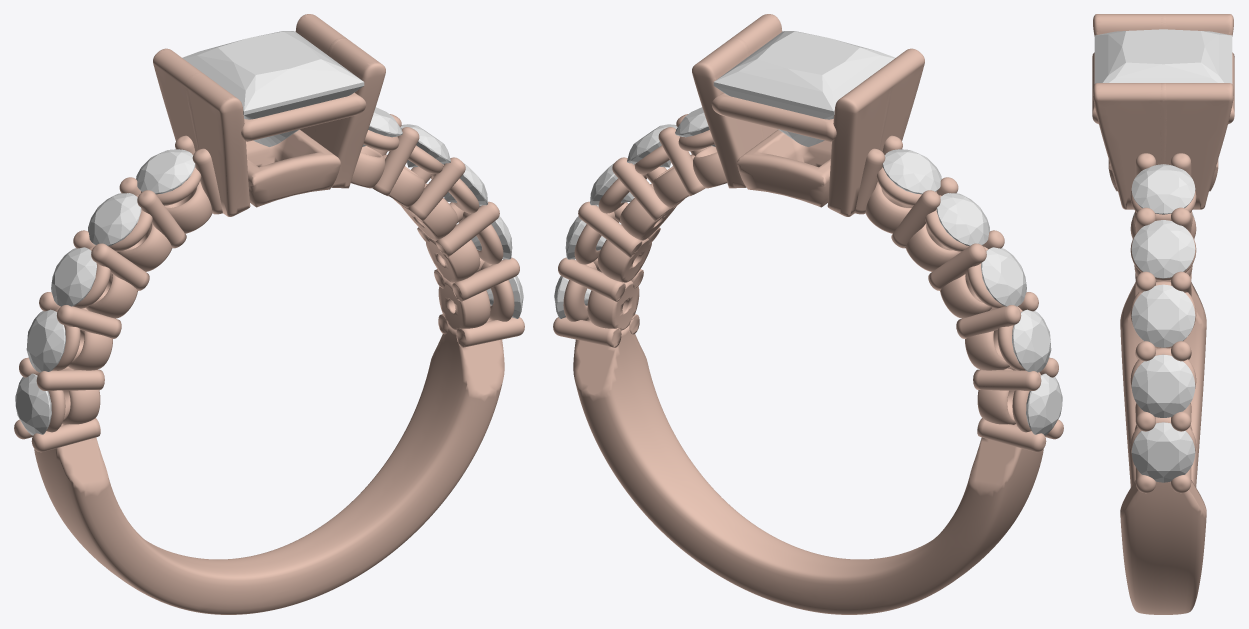
File: diamond-princess-rosegold-halfmoonbezel-straighttaperedband-11stone.glb
3 renders of one model, left to right at view 1: azimuth 30°, elevation 25°; view 2: azimuth 150°, elevation 25°; view 3: azimuth 270°, elevation 25°, orthographic.
Visible parts, largest first — view 1: metal, stone, side.004, side.003, side.005, side.002, side, side.007; view 2: metal, stone, side.004, side.003, side.005, side.002, side, side.007; view 3: metal, stone, side.009, side.008, side.007, side.001, side.006.
Boxes of the visible parts, <box> form: metal: <box>14,14,524,614</box>; stone: <box>182,31,364,146</box>; side.004: <box>88,193,141,246</box>; side.003: <box>51,247,96,306</box>; side.005: <box>136,149,195,194</box>; side.002: <box>26,309,65,372</box>; side: <box>15,373,51,435</box>; side.007: <box>400,124,450,167</box>; metal: <box>553,14,1063,614</box>; stone: <box>713,31,895,146</box>; side.004: <box>936,193,989,246</box>; side.003: <box>981,247,1026,306</box>; side.005: <box>882,149,941,194</box>; side.002: <box>1012,309,1051,372</box>; side: <box>1026,373,1062,435</box>; side.007: <box>627,124,677,167</box>; metal: <box>1092,14,1234,614</box>; stone: <box>1094,29,1232,83</box>; side.009: <box>1131,354,1195,417</box>; side.008: <box>1131,284,1195,347</box>; side.007: <box>1131,220,1195,278</box>; side.001: <box>1131,422,1195,482</box>; side.006: <box>1131,164,1195,214</box>.
Size of the model in its own units: 22.23 by 23.65 by 5.6.
